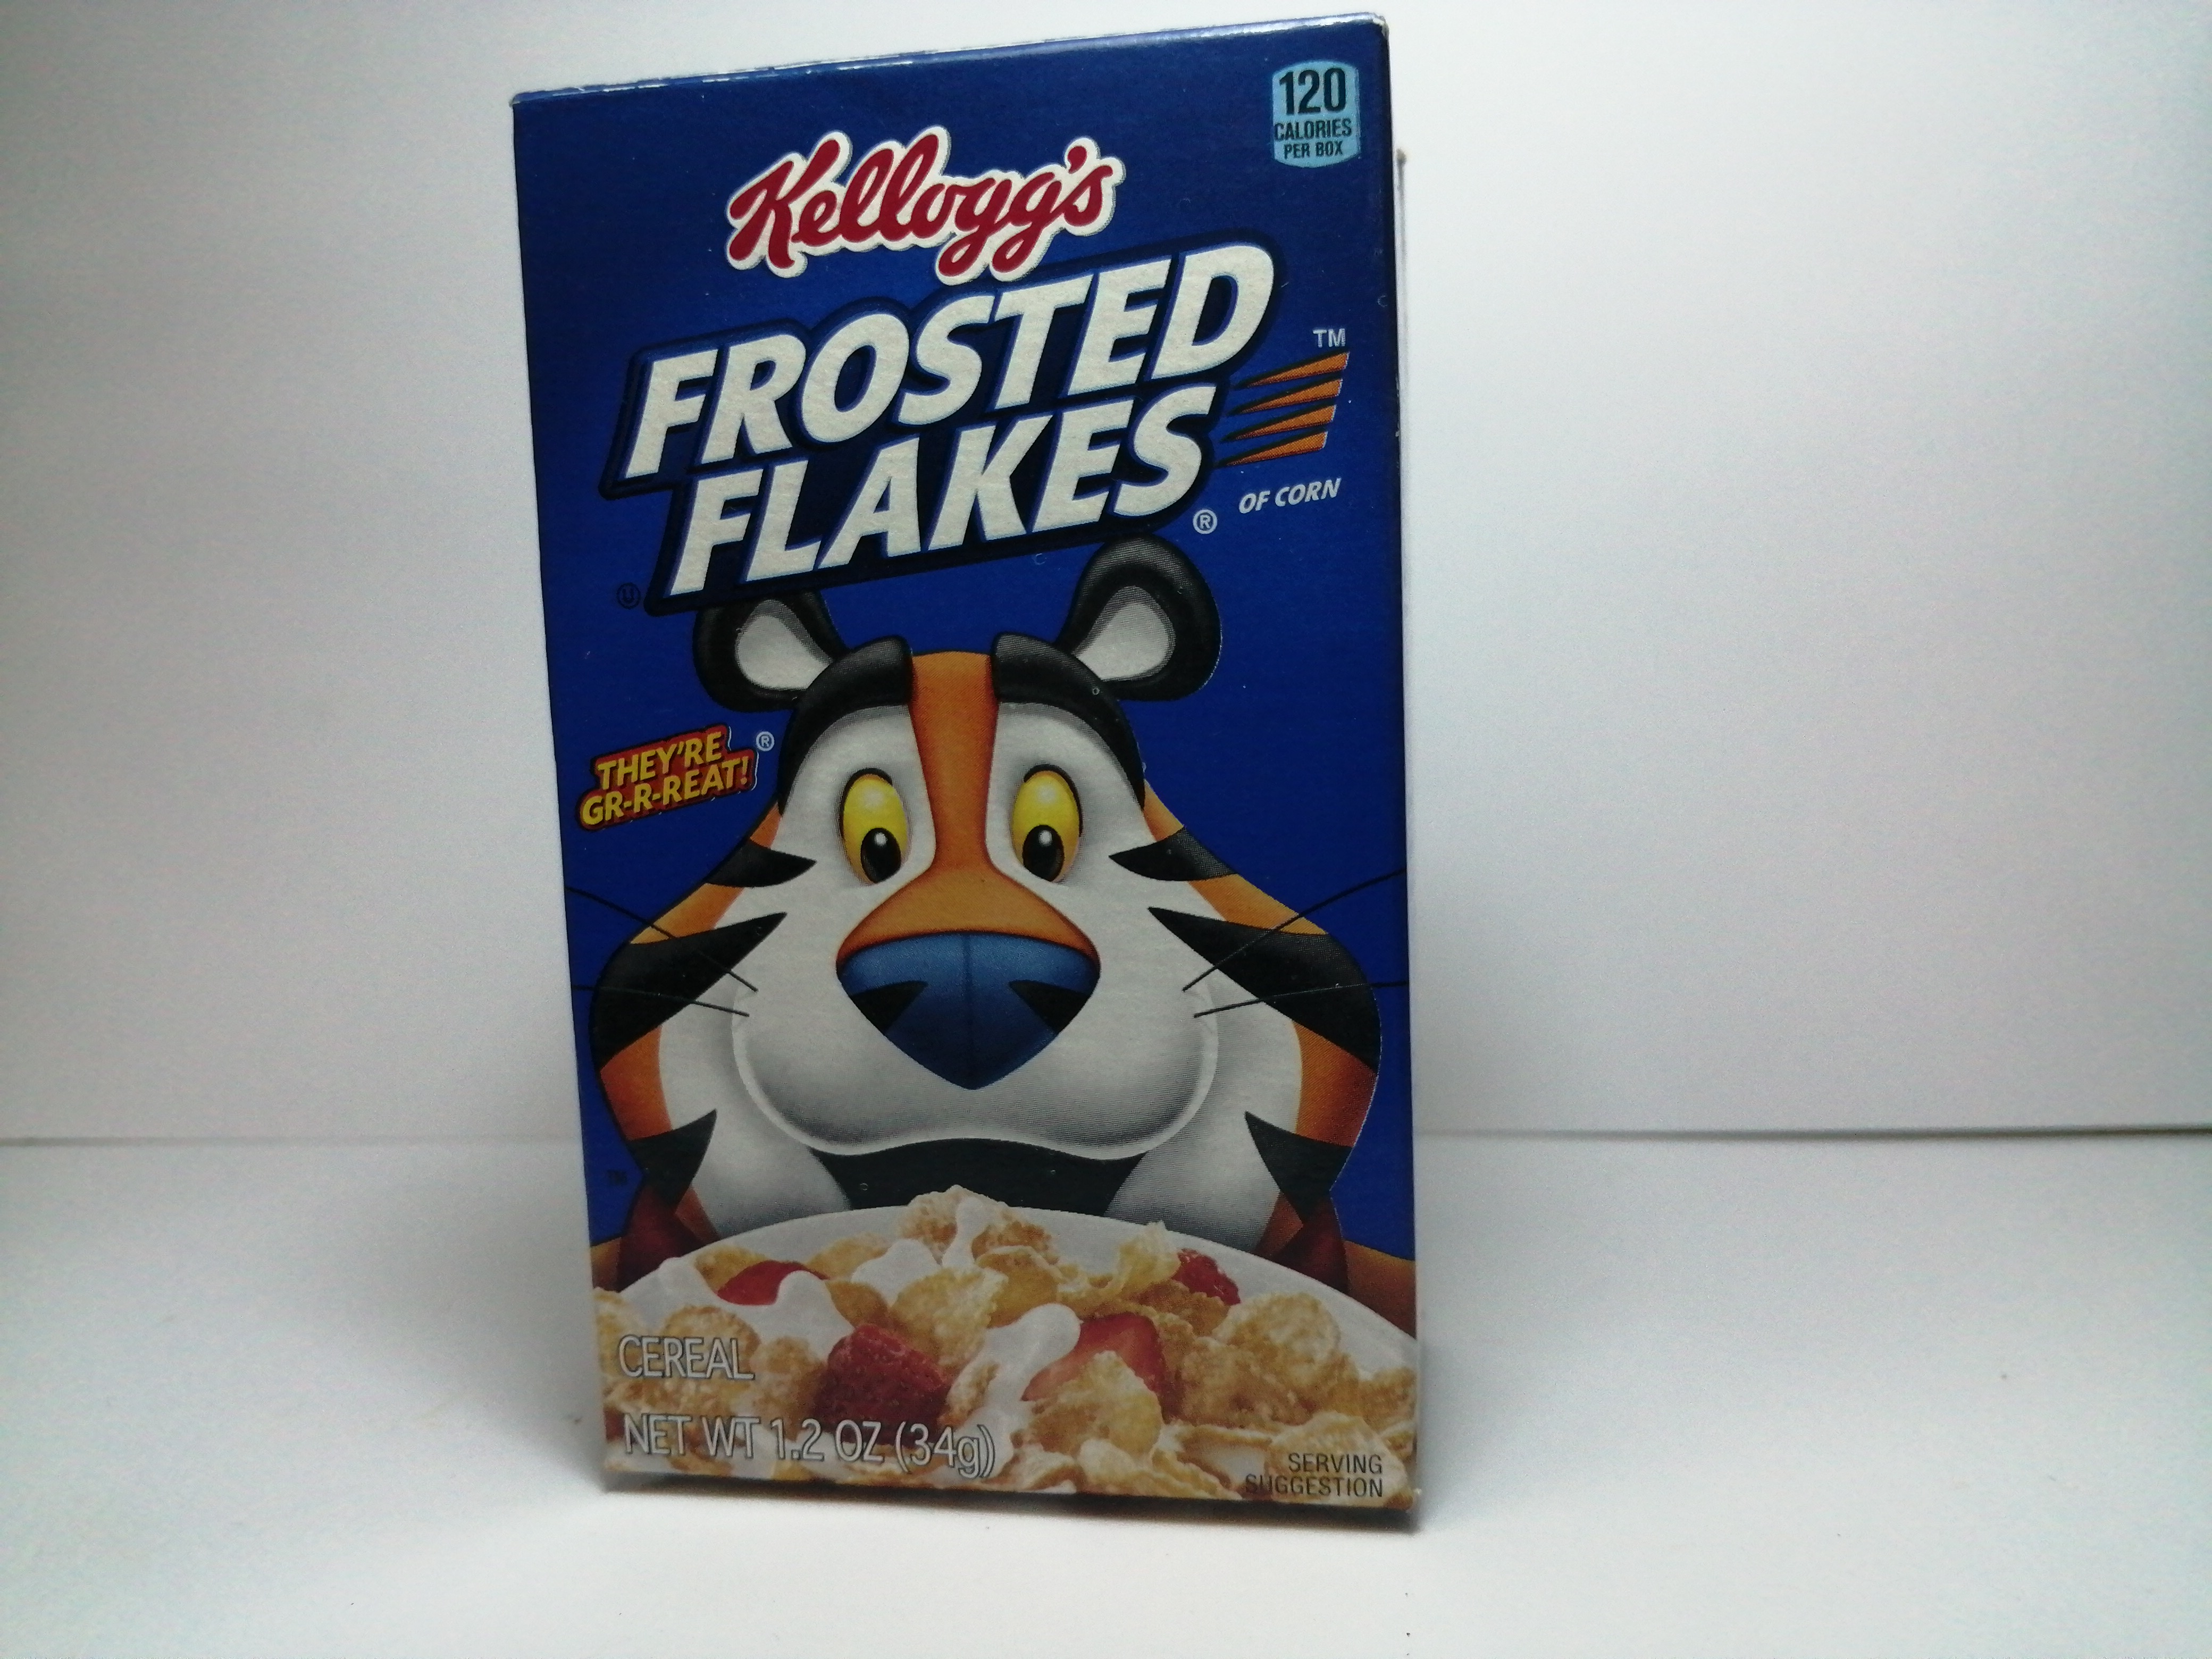cereal azucarado: (498, 10, 1461, 1554)
